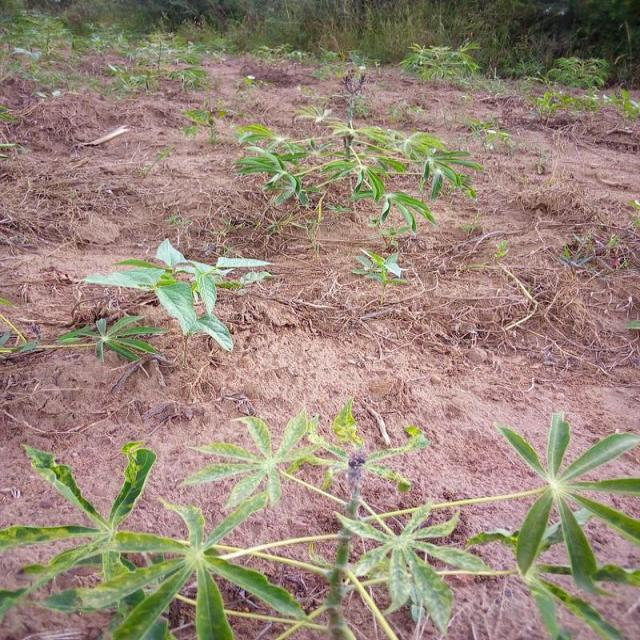cassava leaf: (80, 237, 274, 352)
